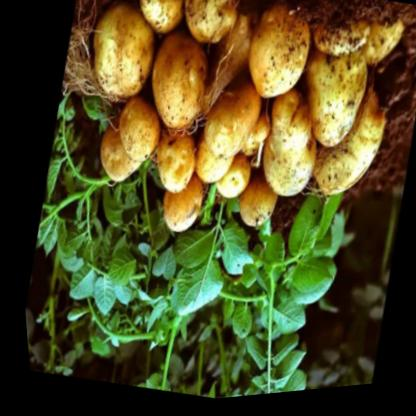--: (246, 95, 332, 219), (76, 0, 165, 107), (236, 3, 322, 113), (134, 27, 218, 139), (190, 78, 268, 180)
